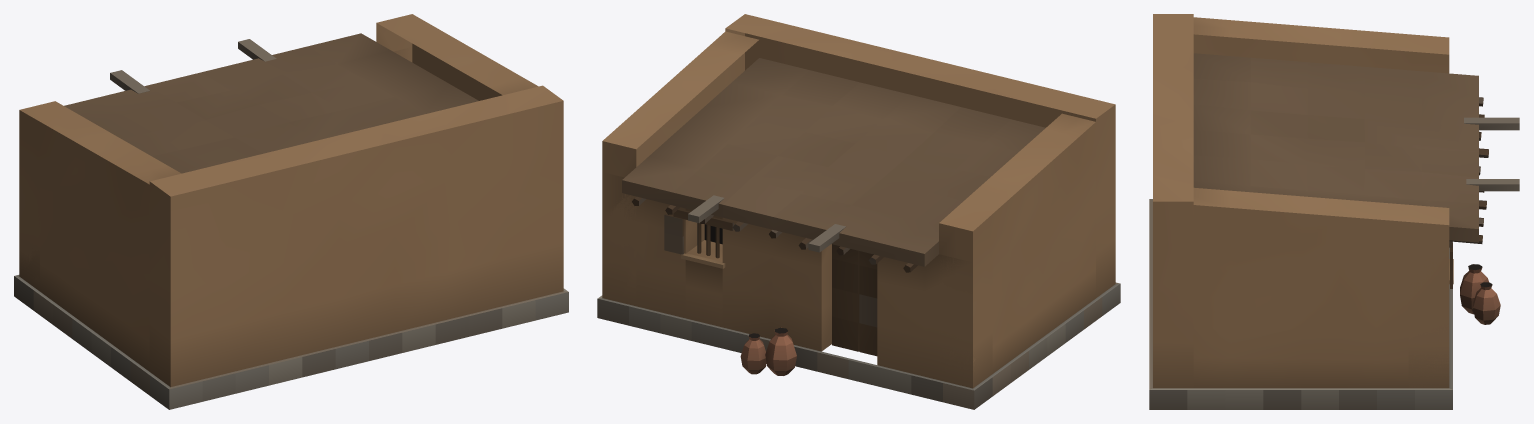
Rendered from casa_torta_a.glb.
3 views of the same model, side by side, from view 1: azimuth 30°, elevation 25°; view 2: azimuth 150°, elevation 25°; view 3: azimuth 270°, elevation 25° (orthographic). The views are drawn at different scales.
Parts seen in each view (by area): view 1: casa_torta_a; view 2: casa_torta_a; view 3: casa_torta_a.
Part boxes in pixels (<box>): casa_torta_a: <box>14,14,568,409</box>; casa_torta_a: <box>597,14,1120,409</box>; casa_torta_a: <box>1149,14,1519,409</box>.
Size of the model in its own units: 6.1 by 3.08 by 5.
